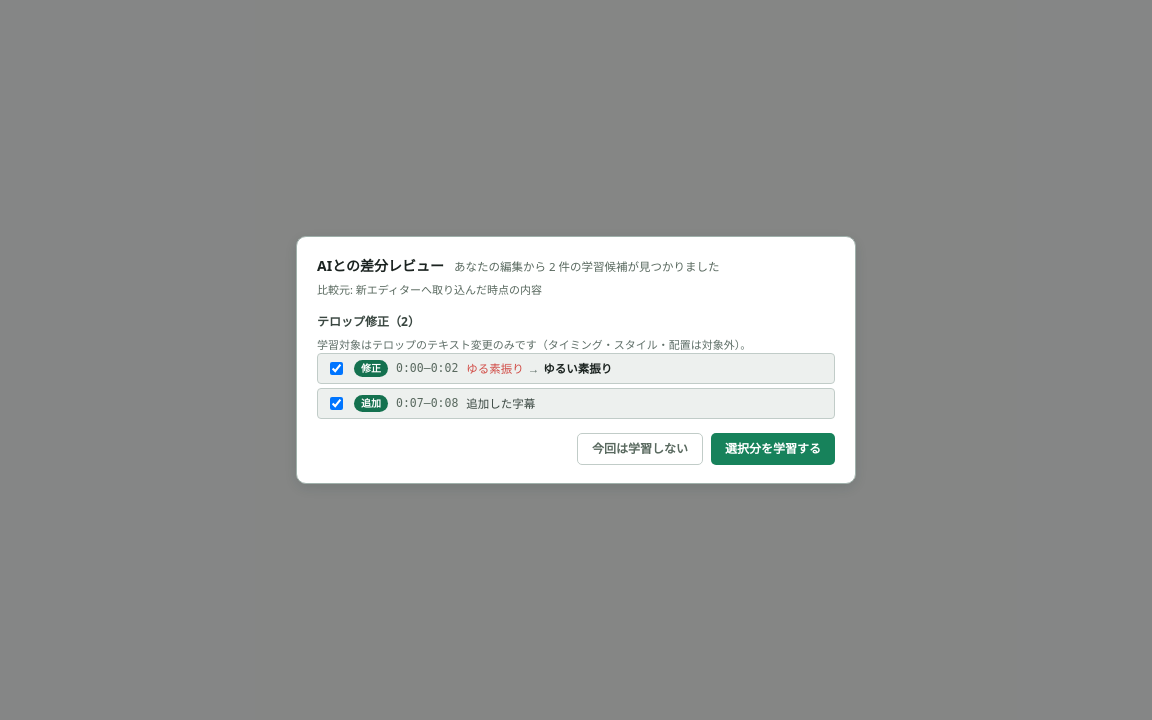
Test: 台帳の更新に失敗した承認は、完了画面に注意の1行を出す
Expected: the dialog "AIとの差分レビュー" is shown, [296,236,856,484]
Click the button "選択分を学習する": (773, 449) [711,433,835,465]
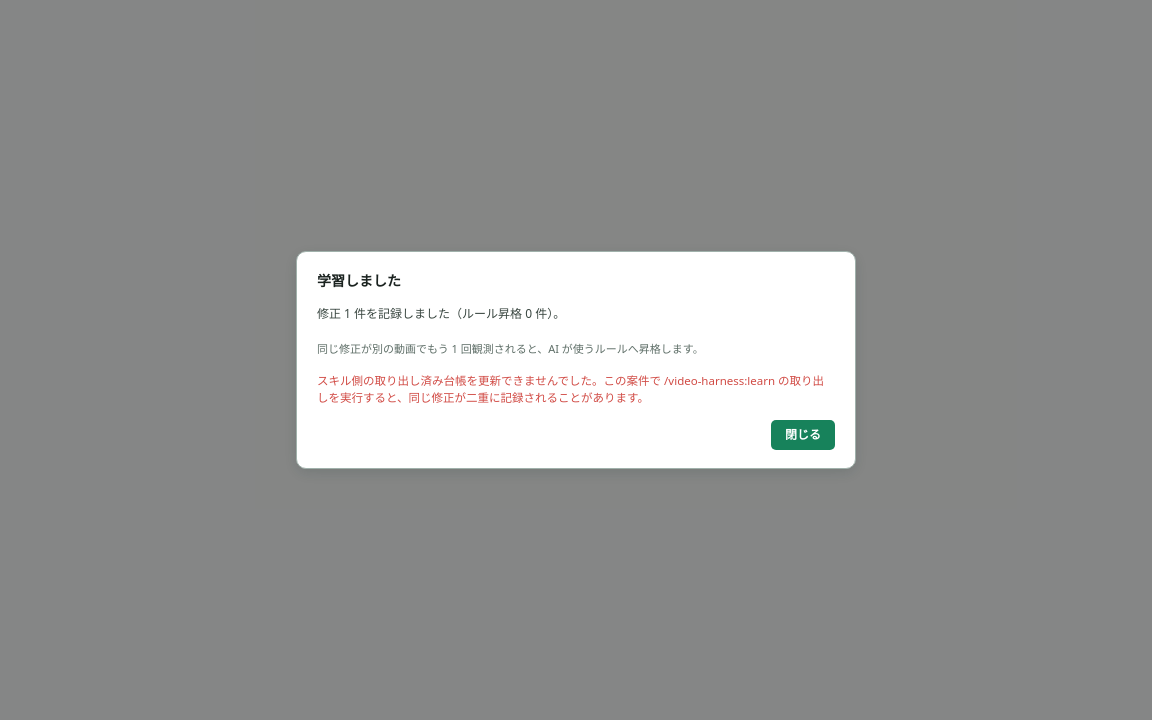
Now the message shows "スキル側の取り出し済み台帳を更新できませんでした", box [317,372,824,405]
